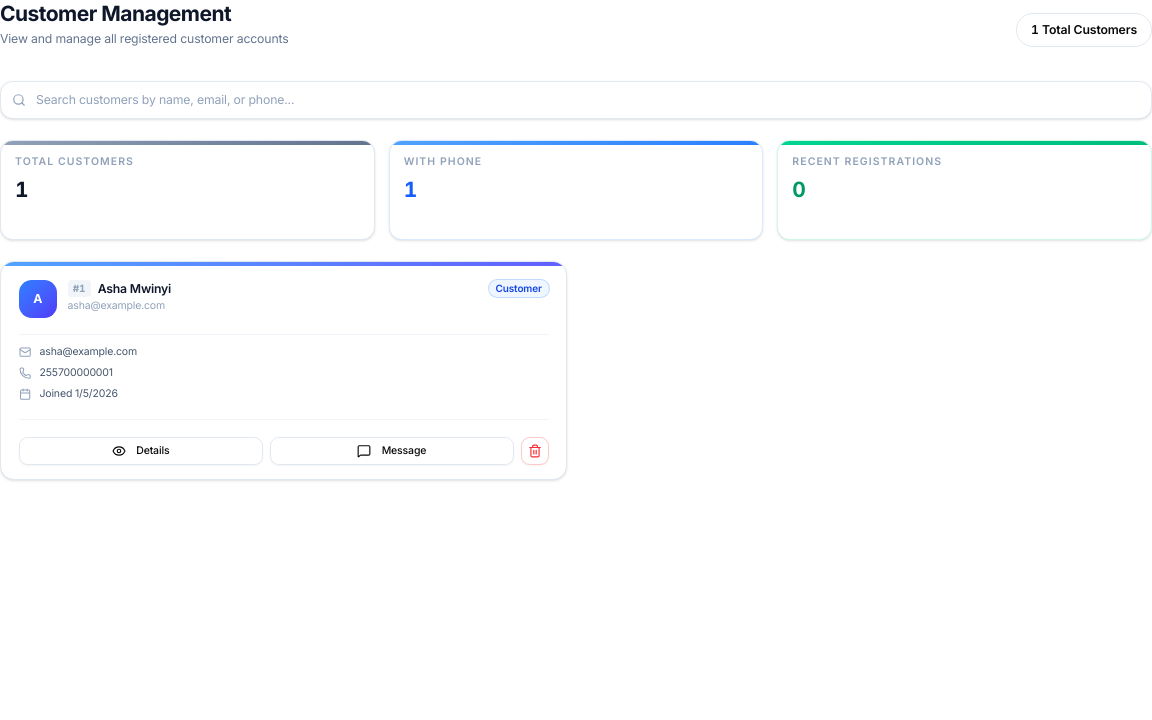
it: CustomerManagementTab › details dialog › opens showing the clicked customer's full information
expect the heading "Asha Mwinyi" is shown: met, box [98,281,171,296]
Click the button "Details" at x=141, y=451, box [18,437,263,465]
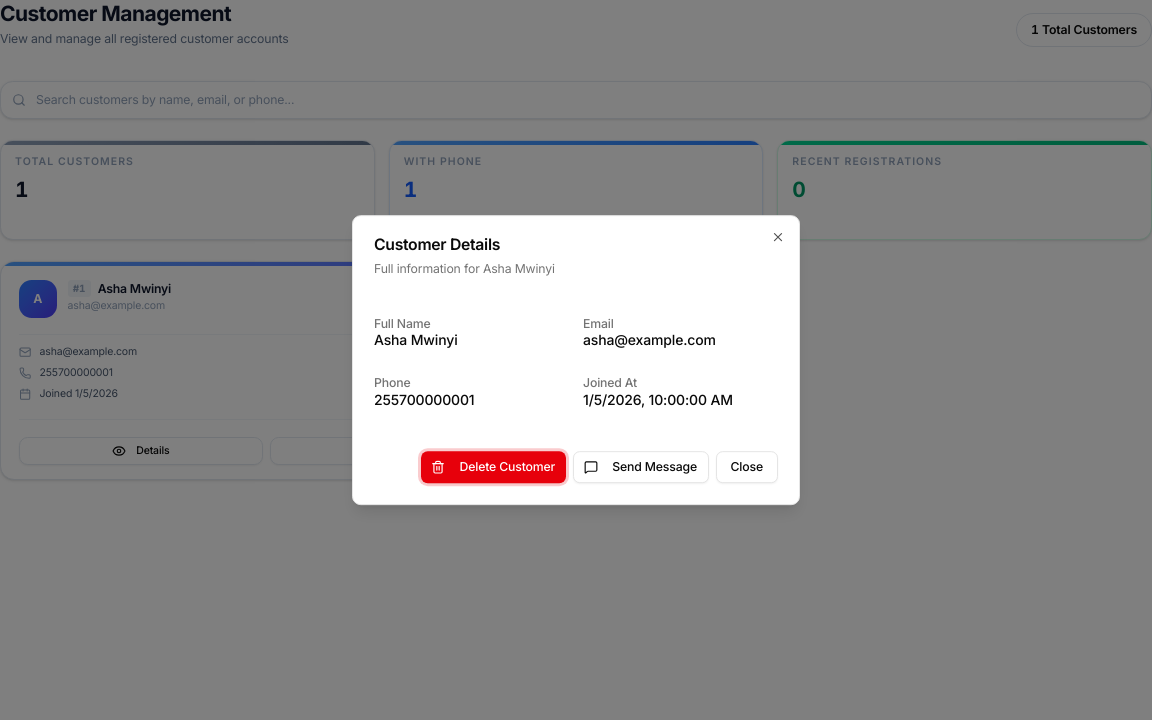
expect the text "Full information for Asha Mwinyi" is shown: met, box [374,261,555,276]
expect the text "255700000001" is shown: met, box [374,391,474,408]
